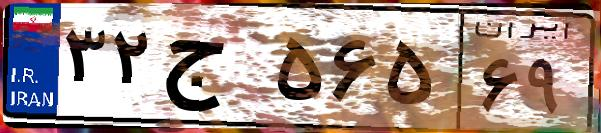2: (110, 28, 158, 98)
3: (57, 26, 110, 100)
5: (270, 28, 330, 110), (385, 28, 445, 110)
6: (330, 28, 385, 110), (475, 38, 525, 113)
9: (525, 38, 570, 115)
ج: (158, 20, 270, 120)
